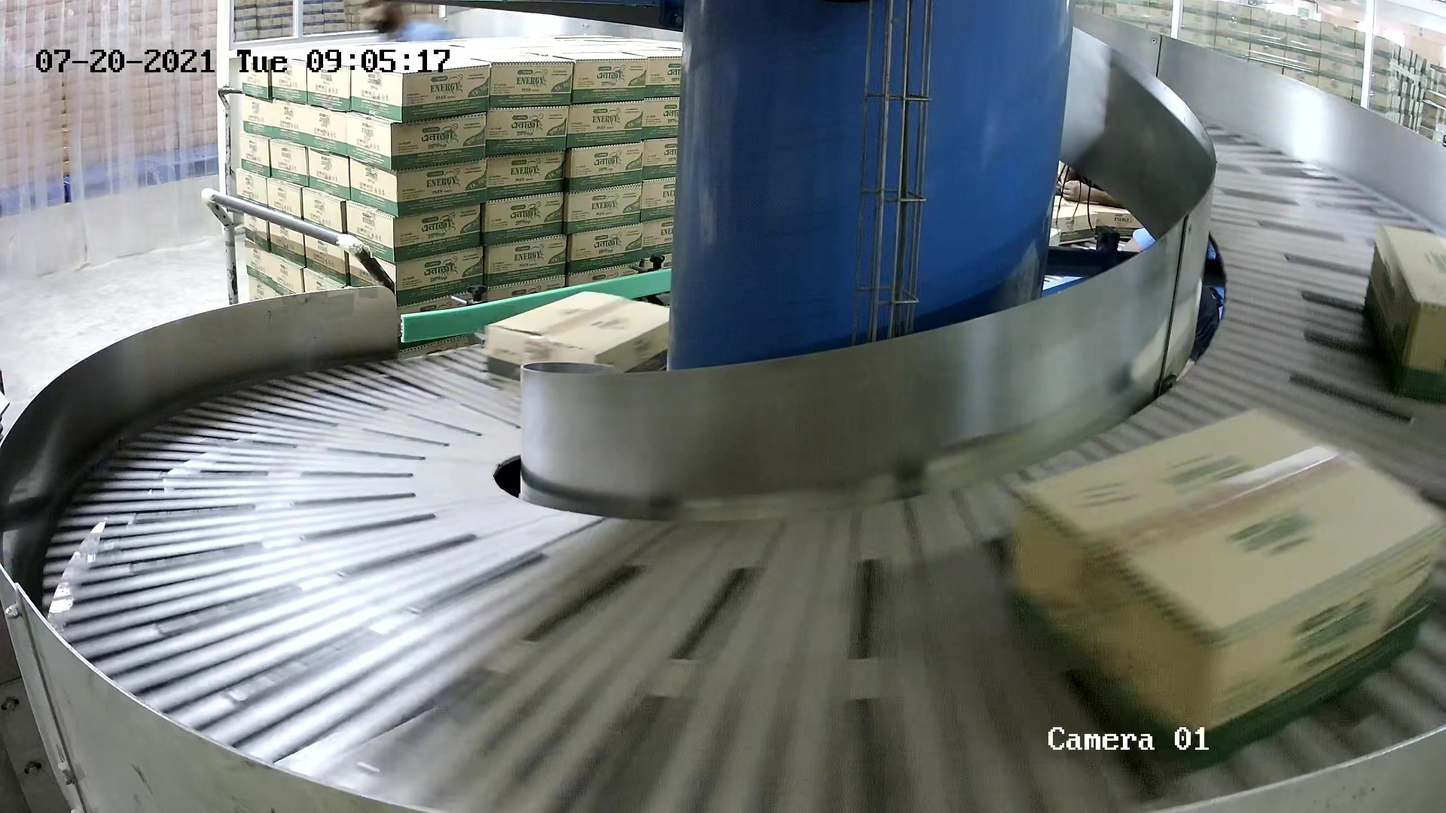Box: (1008, 403, 1446, 790), (485, 289, 669, 383), (1364, 222, 1446, 401)
